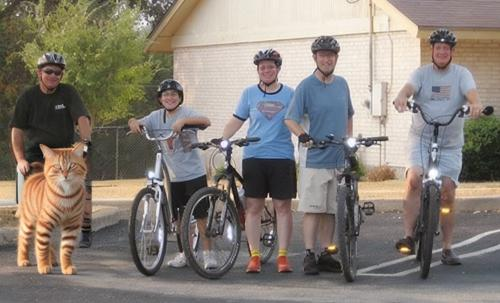bicycle: (394, 102, 492, 279), (181, 138, 280, 280), (306, 134, 390, 282), (125, 127, 197, 277)
cat: (13, 143, 91, 274)
person: (394, 28, 484, 267), (213, 49, 299, 274), (12, 53, 93, 271), (284, 36, 356, 276), (129, 79, 219, 270)
person/foot: (394, 233, 416, 255), (319, 253, 342, 273), (168, 251, 195, 268), (439, 246, 461, 266), (300, 252, 319, 275), (29, 251, 51, 270), (249, 253, 264, 275), (203, 250, 219, 270), (277, 256, 294, 273), (75, 218, 91, 236)
person/hand: (172, 116, 187, 134), (70, 142, 91, 154), (395, 96, 409, 114), (129, 118, 142, 136), (471, 103, 484, 120), (14, 154, 32, 165), (300, 137, 315, 149)
person/head: (253, 49, 286, 90), (312, 41, 340, 77), (157, 80, 185, 114), (38, 58, 65, 92), (432, 39, 458, 71)
